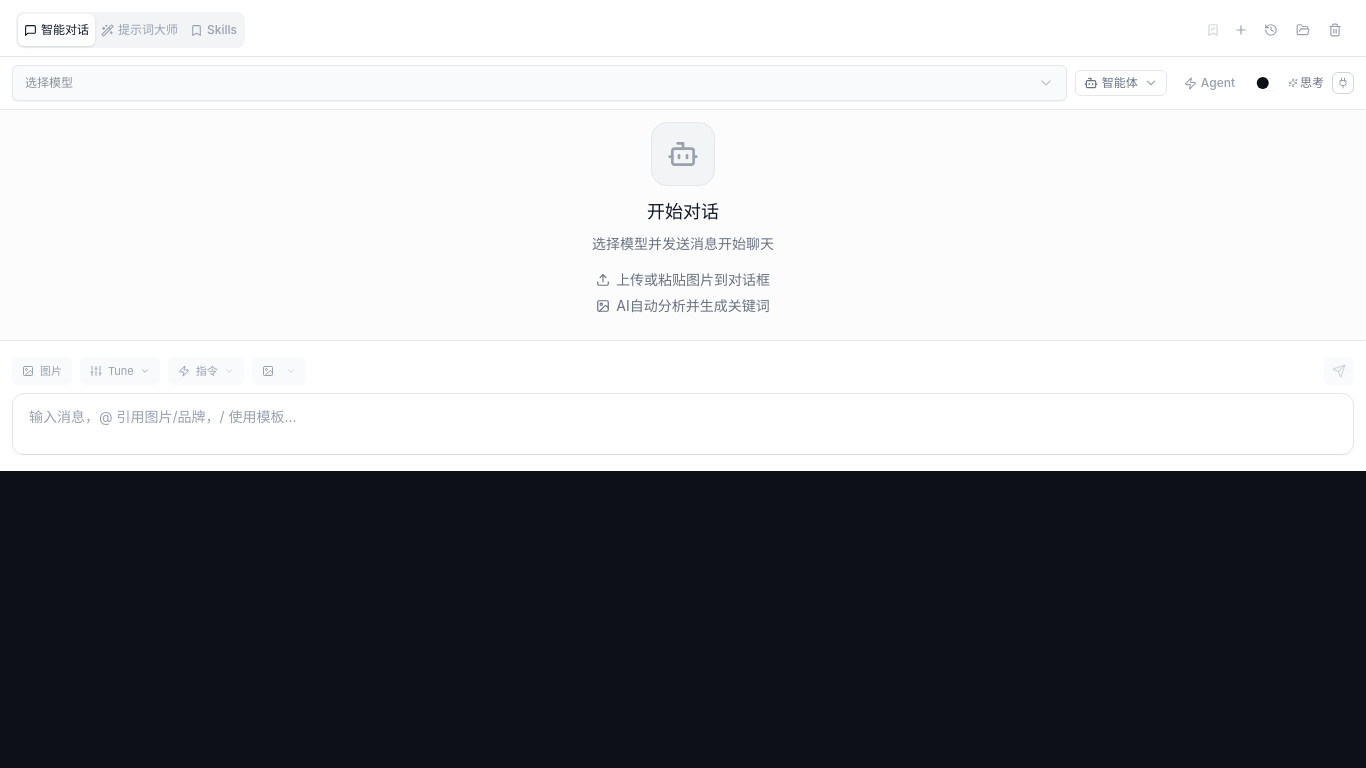
Scenario: Canvas compliance report projection › keeps mixed legacy and current history visible while disabling only an incomplete legacy recheck
The image size is (1366, 768).
Click the button with aria-label "Skills技能库".
click(214, 30)  # box [184, 14, 243, 46]
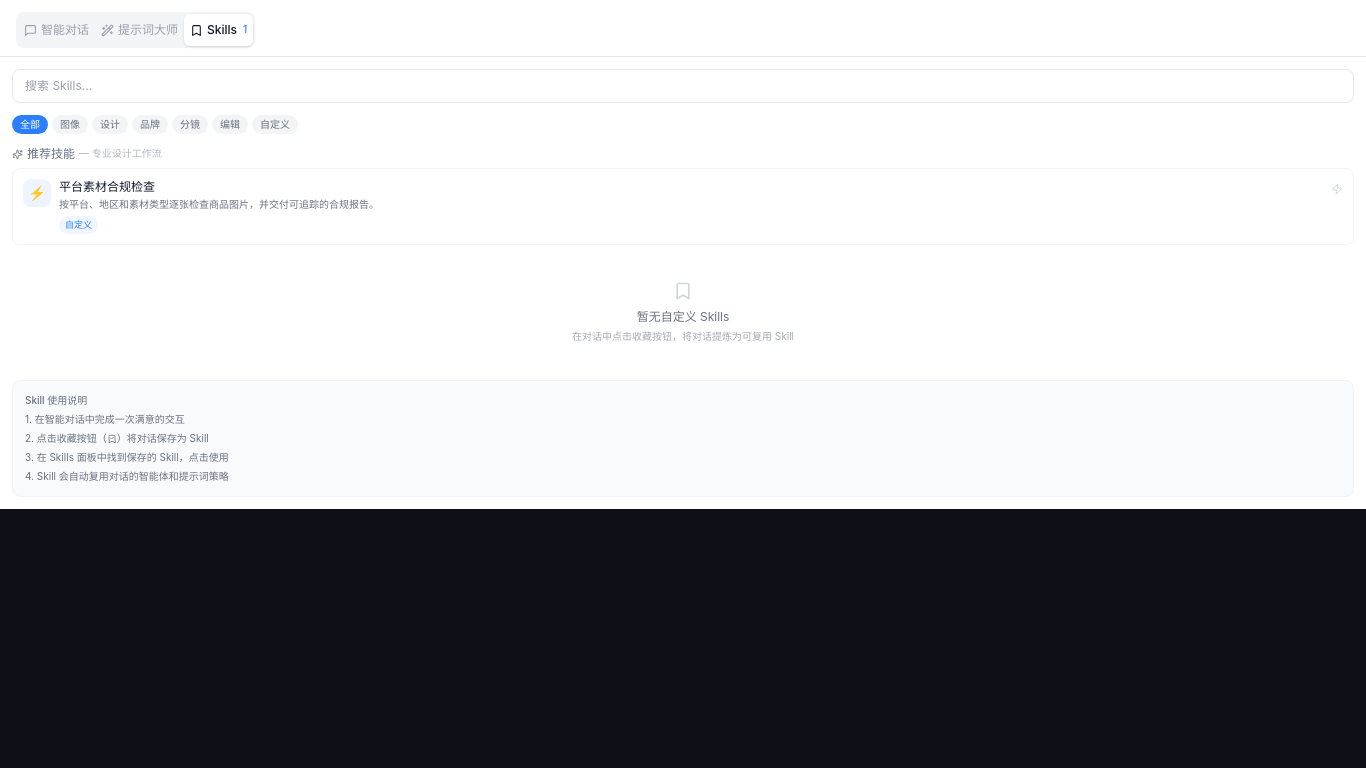
Click the text "平台素材合规检查".
click(107, 186)  # box [59, 179, 155, 194]
(page scrolled)
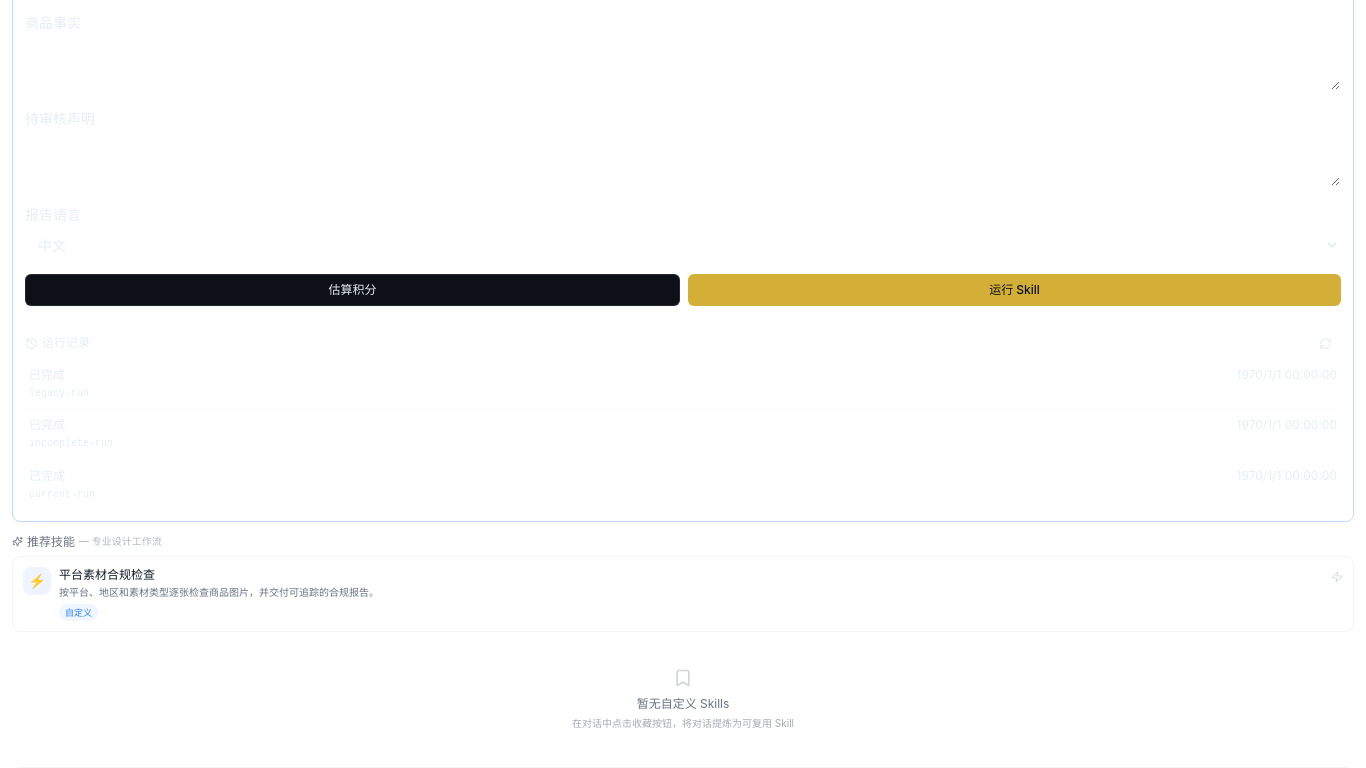
Expected: the button with aria-label "查看任务 legacy-run" is shown
Expected: the button with aria-label "查看任务 current-run" is shown, [25, 460, 1341, 509]
Expected: the button with aria-label "查看任务 incomplete-run" is shown, [25, 409, 1341, 459]
Click the button with aria-label "查看任务 legacy-run".
click(47, 374)  # box [25, 359, 1341, 408]
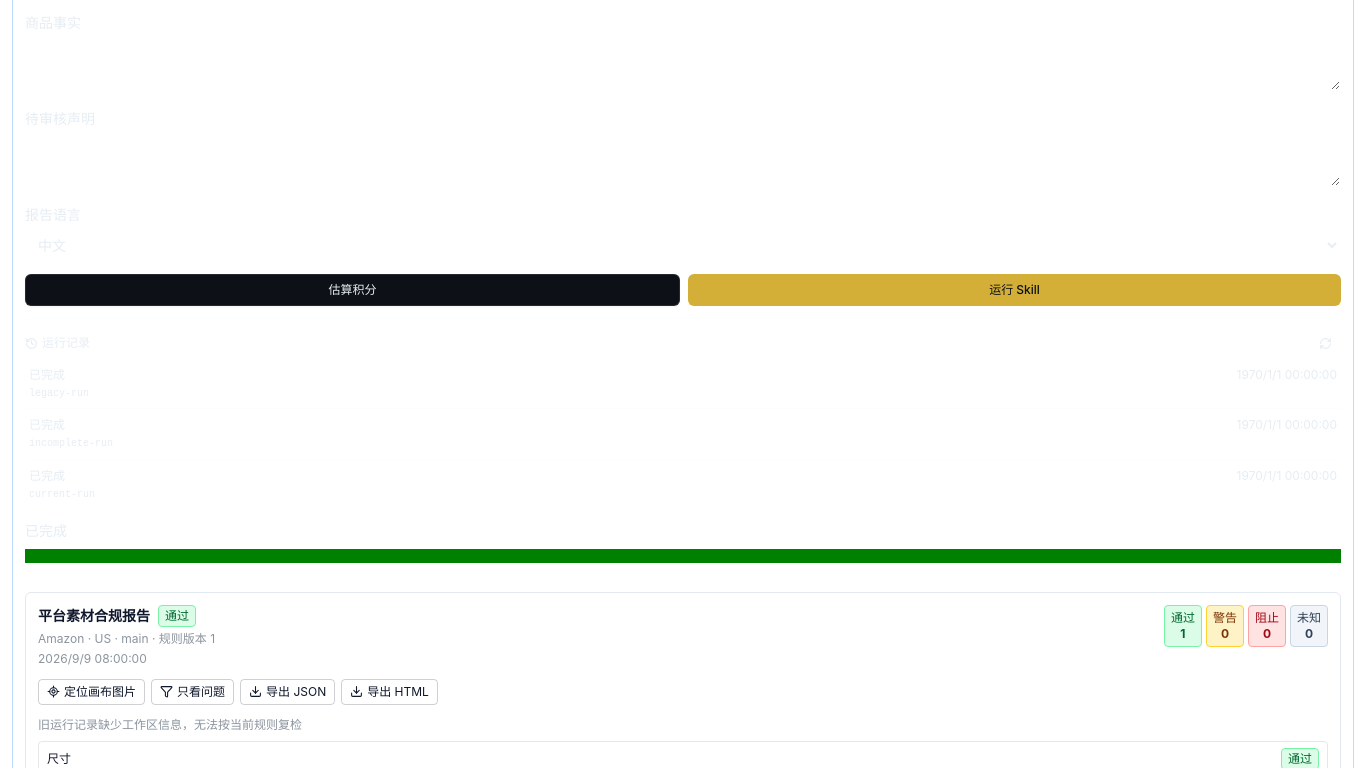
Expected: the text "旧运行记录缺少工作区信息，无法按当前规则复检" is shown, [38, 717, 302, 732]
Click the button with aria-label "查看任务 incomplete-run".
click(47, 425)  # box [25, 409, 1341, 459]
(page scrolled)
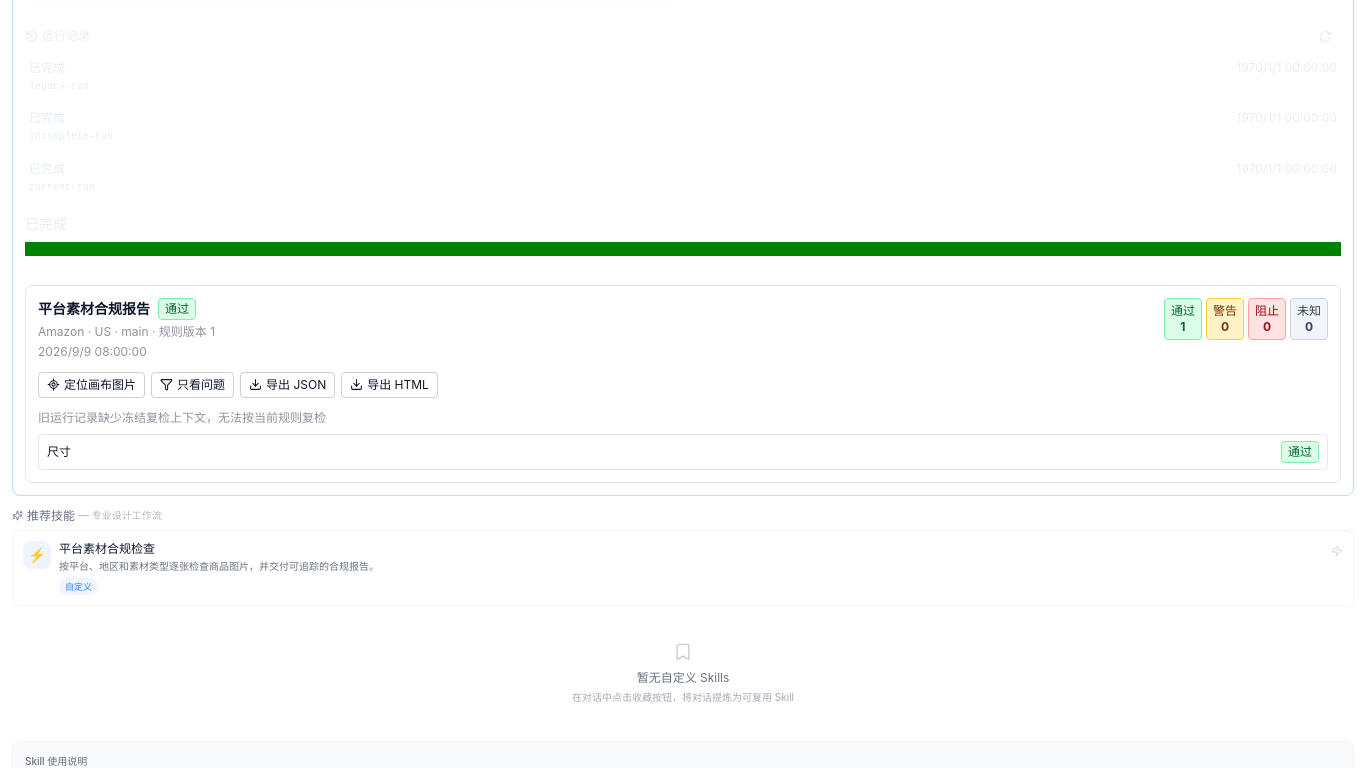
Expected: the element "平台素材合规报告" is shown, [25, 285, 1341, 483]
Expected: the text "旧运行记录缺少冻结复检上下文，无法按当前规则复检" is shown, [38, 410, 326, 425]
